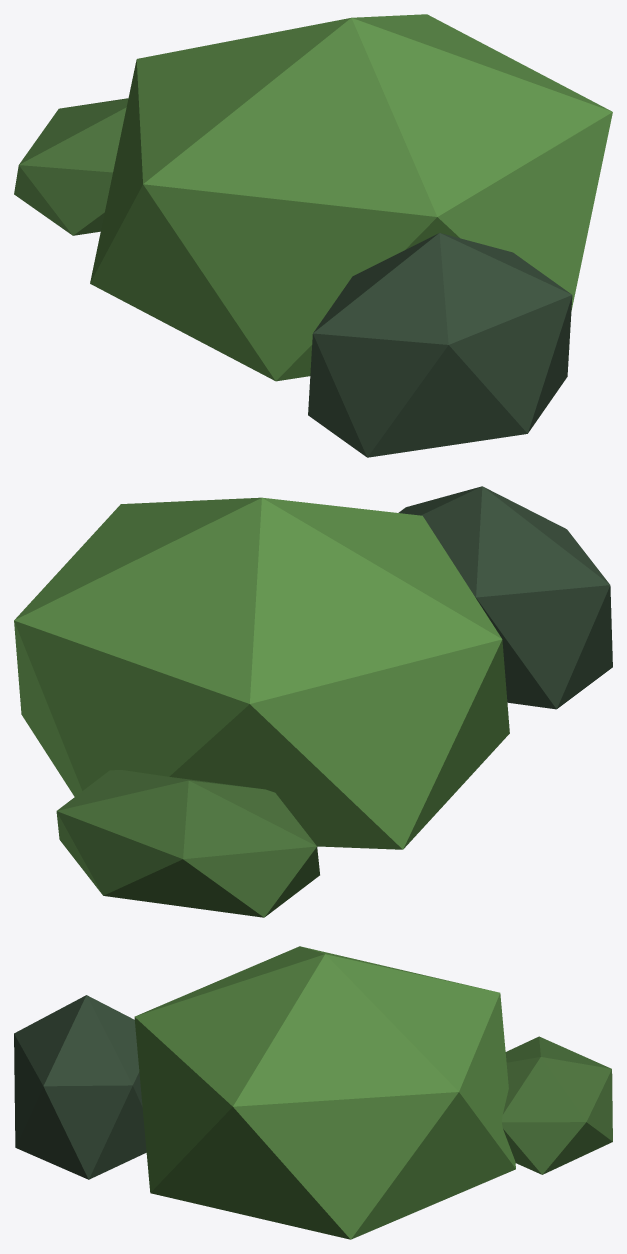
The model's file is Bush_03.glb.
3 views of the same model, one above another, from view 1: azimuth 30°, elevation 25°; view 2: azimuth 150°, elevation 25°; view 3: azimuth 270°, elevation 25° (orthographic). The views are drawn at different scales.
Parts seen in each view (by area): view 1: Bush_03; view 2: Bush_03; view 3: Bush_03.
Boxes of the visible parts, box(x1,y1,x2,y2) form: Bush_03: box(14, 14, 612, 457); Bush_03: box(14, 486, 612, 917); Bush_03: box(14, 946, 612, 1239).
Size of what is drawn, in the model's own units: 1.53 by 0.8601 by 2.29.
Materials: 1 (1 with a texture image).
